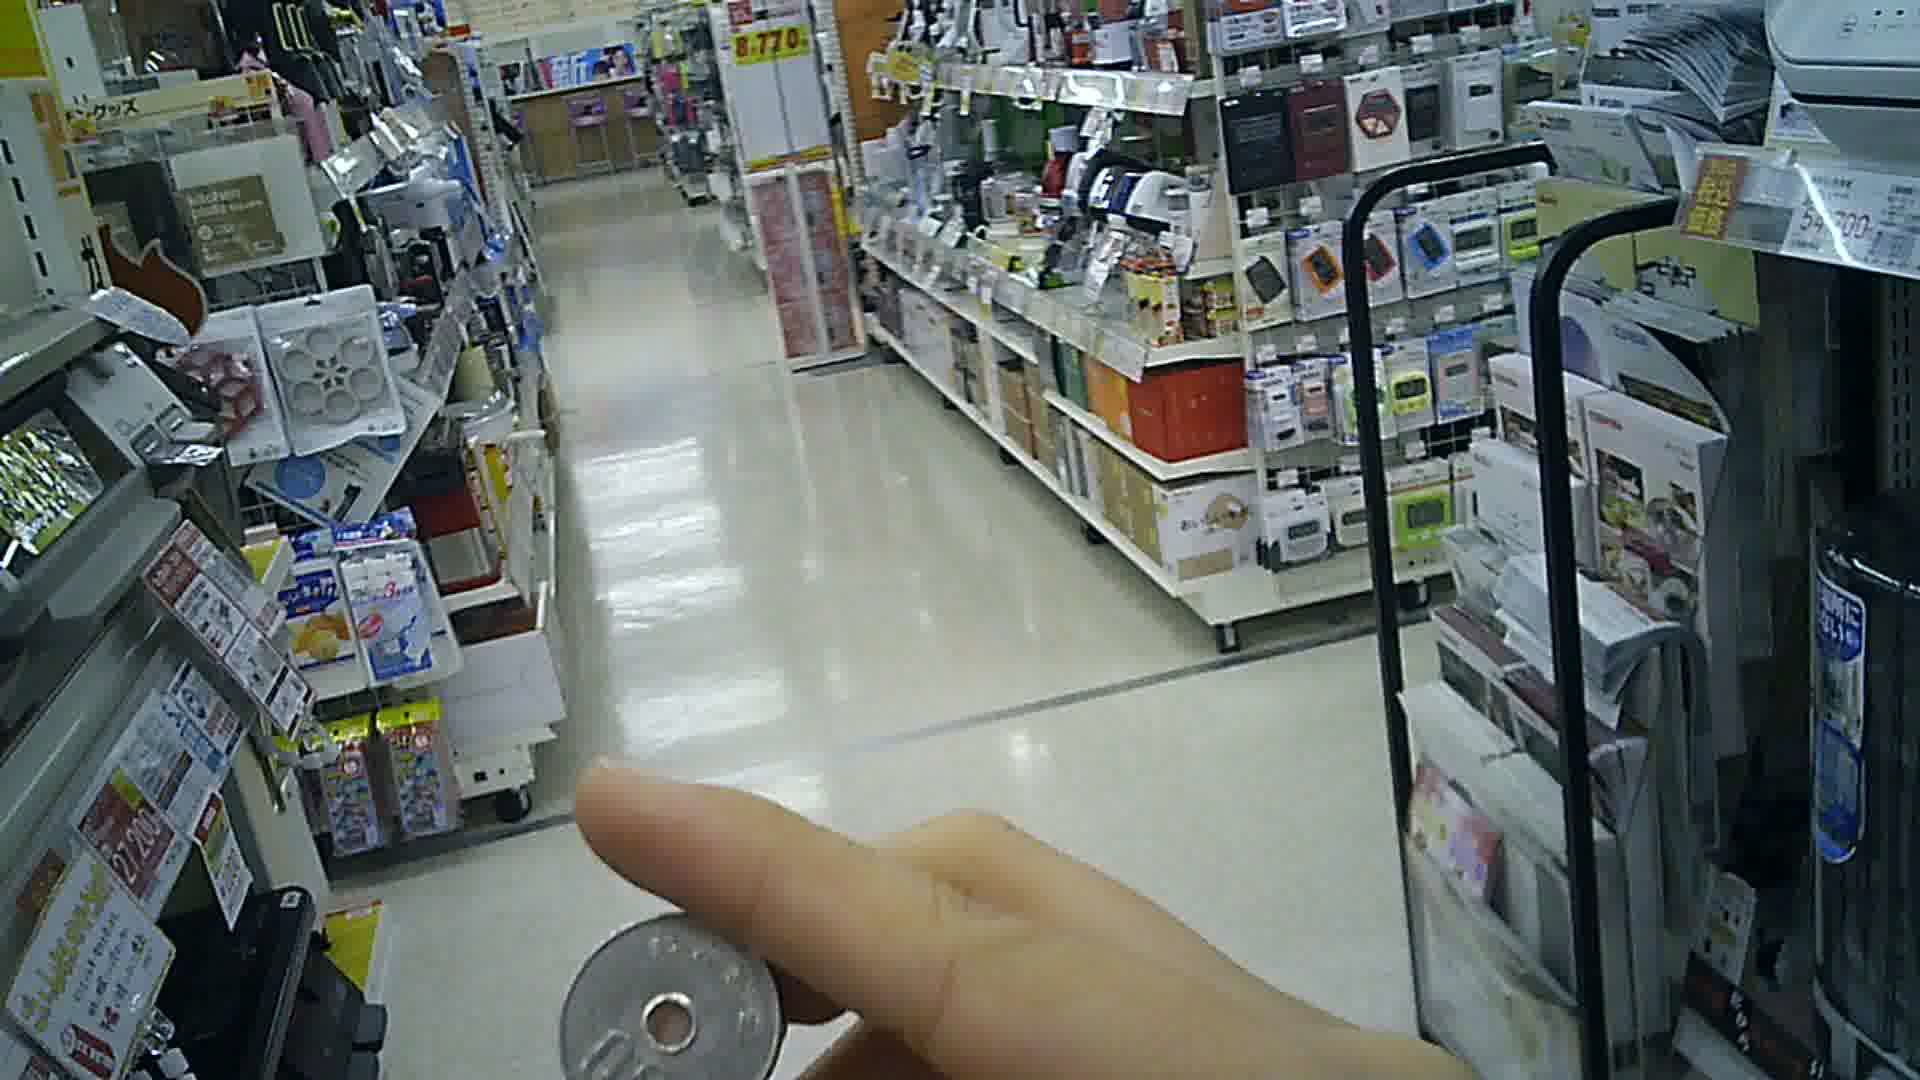50 Yen: (556, 906, 785, 1079)
